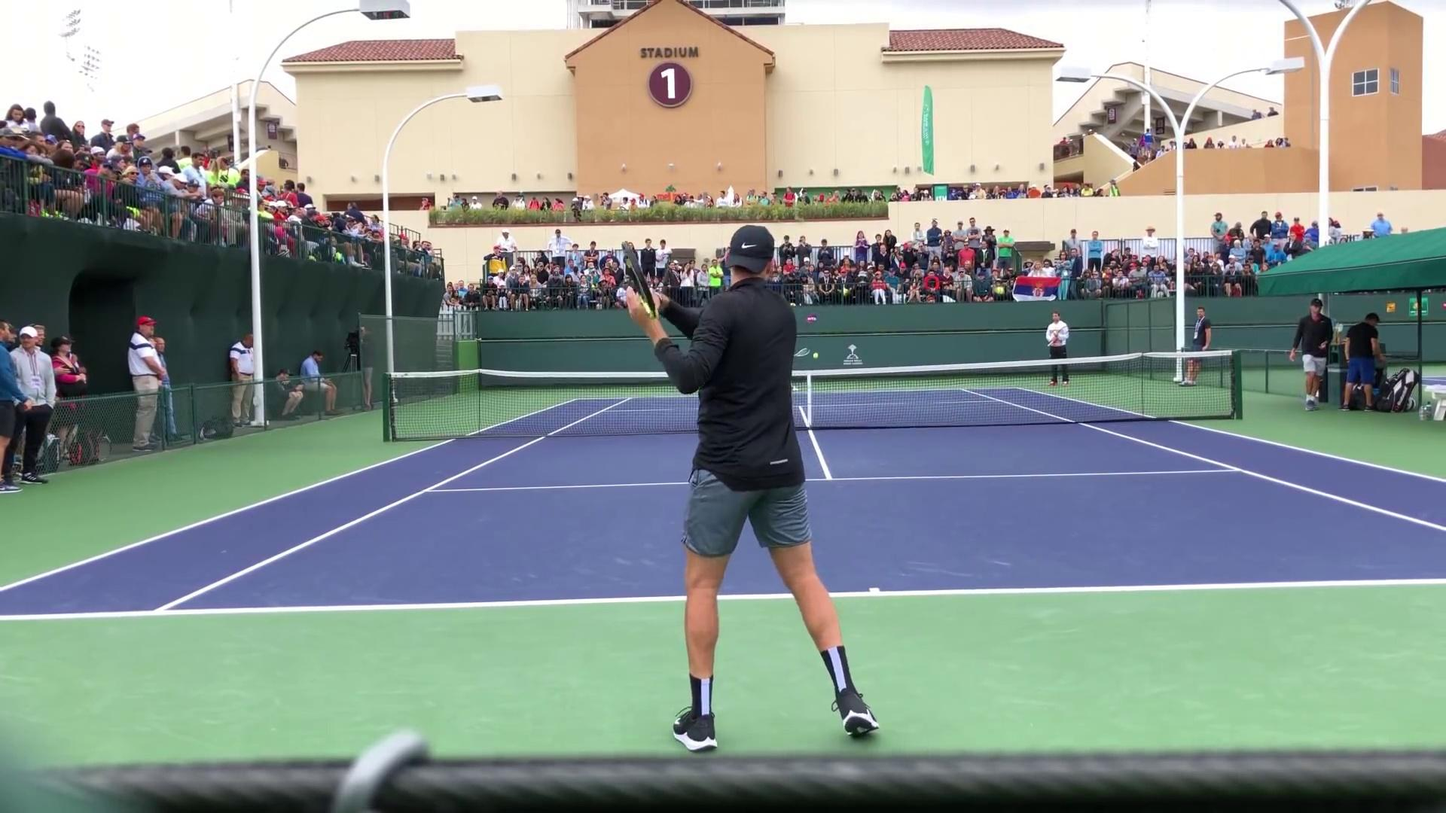ball: (811, 352, 821, 359)
